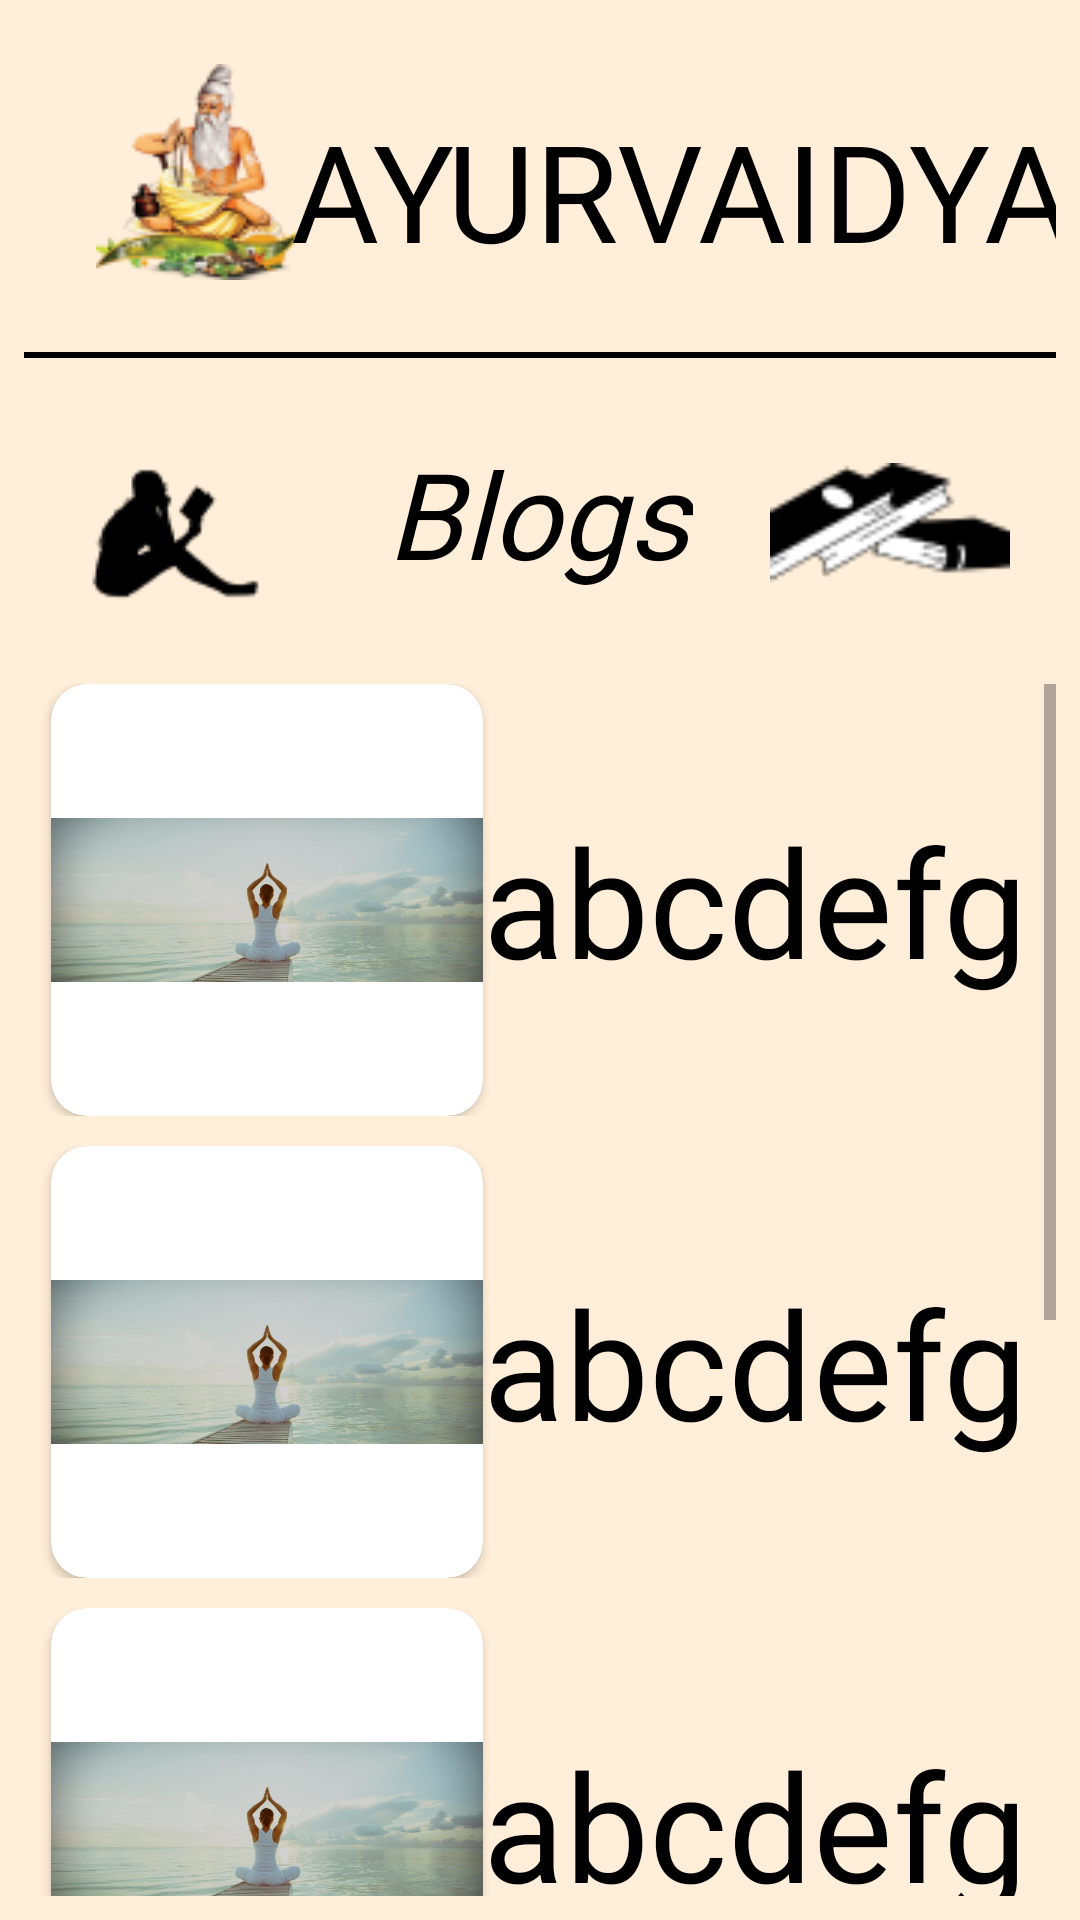

Icon bounding boxes for this 1080px×1920px phone screenshot, format [x1=x1, y1=y1, x2=x2, y2=y2]:
guru: [x1=96, y1=64, x2=309, y2=280]
